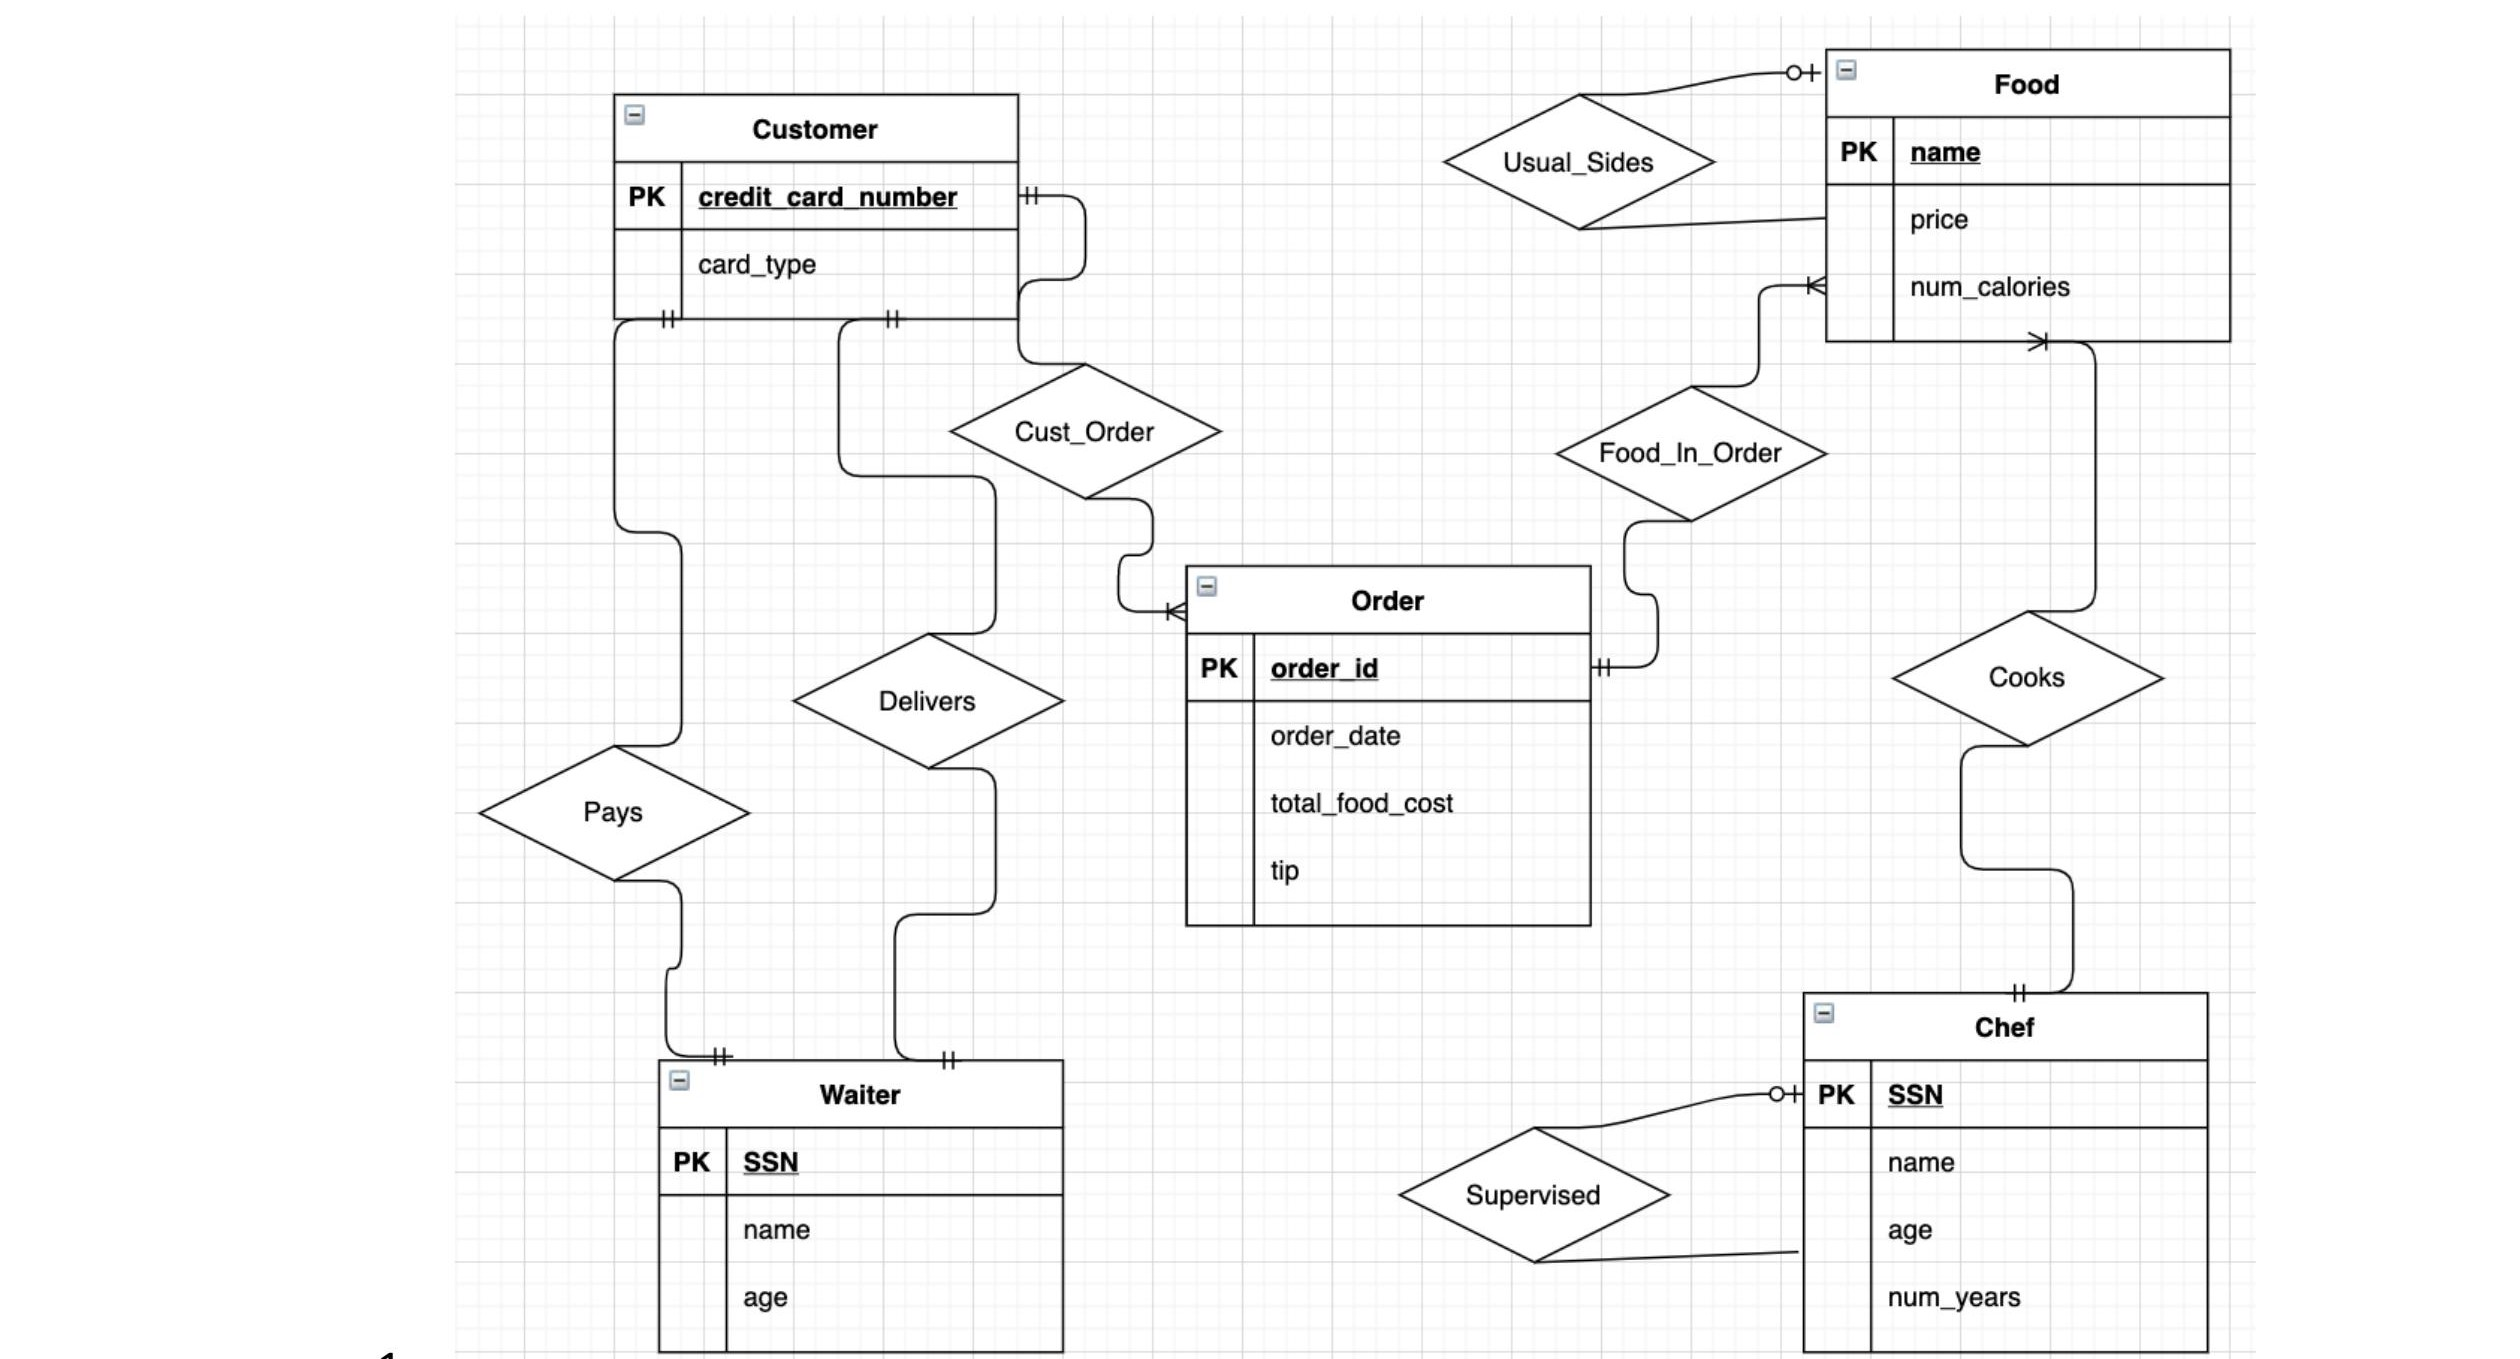Entity: (1183, 562, 1591, 931), (1800, 991, 2212, 1354), (656, 1058, 1066, 1354), (1824, 47, 2232, 343), (611, 90, 1022, 320)
Relationship: (947, 363, 1223, 500), (1891, 611, 2165, 748), (479, 745, 751, 880), (1555, 387, 1827, 521), (791, 634, 1068, 767), (1441, 95, 1717, 228), (1397, 1128, 1672, 1260)
